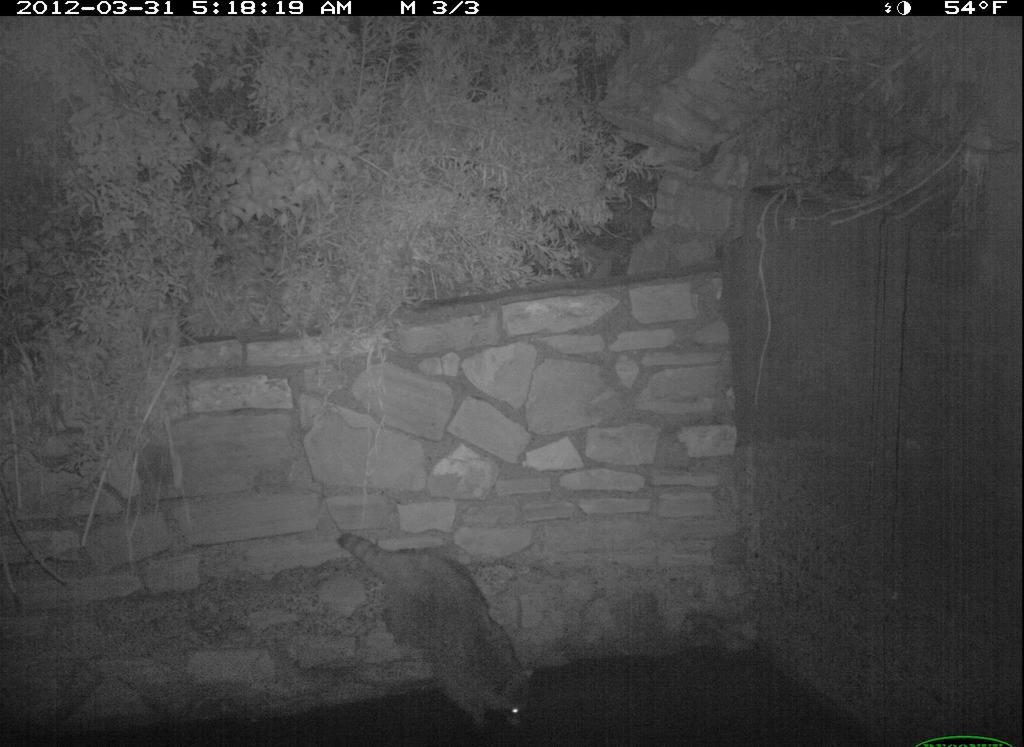raccoon: (331, 521, 545, 740)
